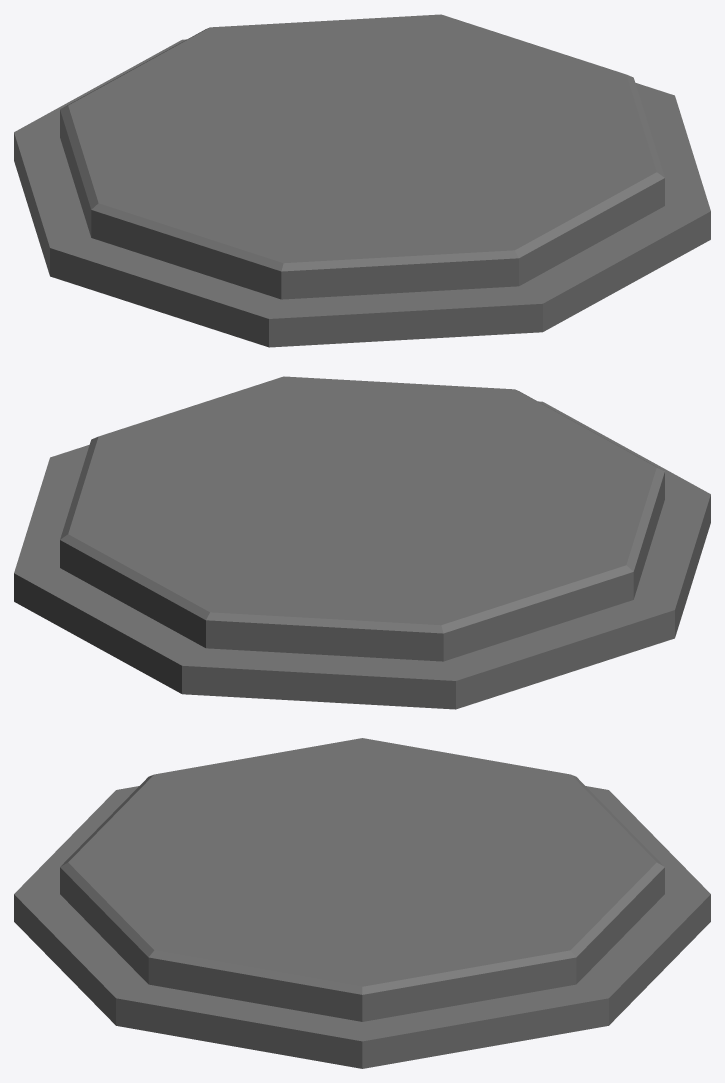
Rendered from street_props_outside_luke_2.fbx.
3 renders of one model, top to bottom at view 1: azimuth 30°, elevation 25°; view 2: azimuth 150°, elevation 25°; view 3: azimuth 270°, elevation 25°, orthographic. The views are drawn at different scales.
Visible parts, largest first — view 1: luke_2; view 2: luke_2; view 3: luke_2.
Boxes of the visible parts, <box> form: luke_2: <box>14,14,710,347</box>; luke_2: <box>14,376,710,709</box>; luke_2: <box>14,738,710,1068</box>.
Size of the model in its own units: 69.12 by 6.49 by 69.12.
